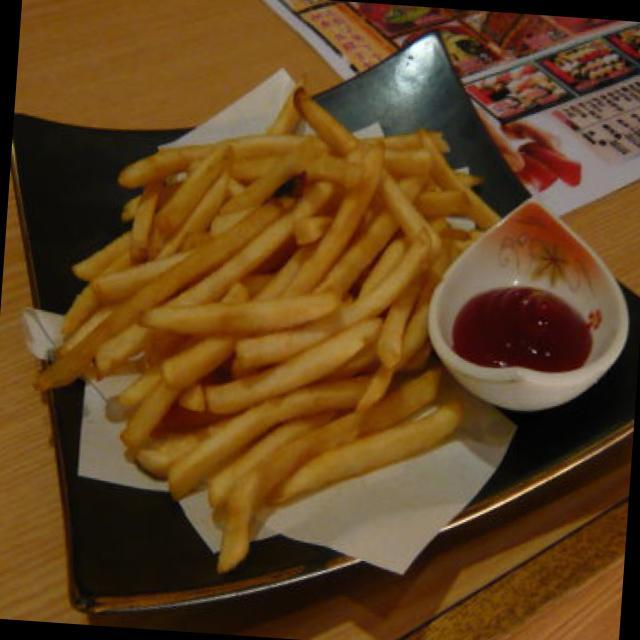French Fries: (68, 74, 496, 514)
Sauce: (446, 273, 606, 380)
